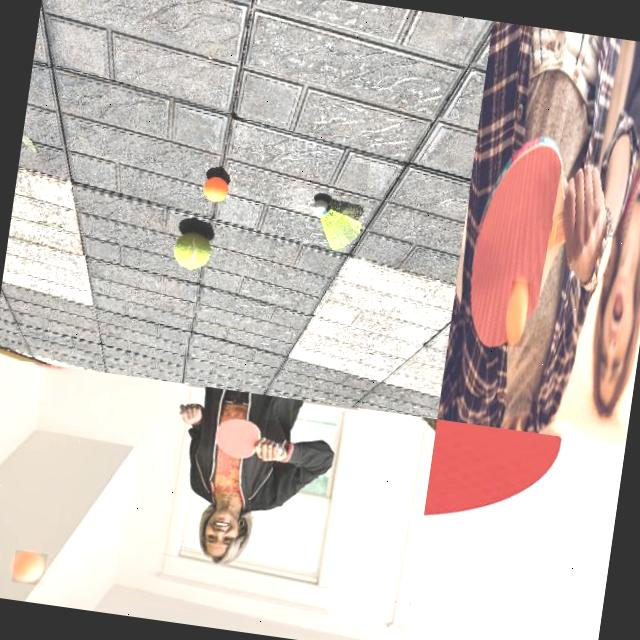ping-pong-ball: (504, 280, 531, 348), (10, 549, 48, 586), (202, 176, 230, 203)
